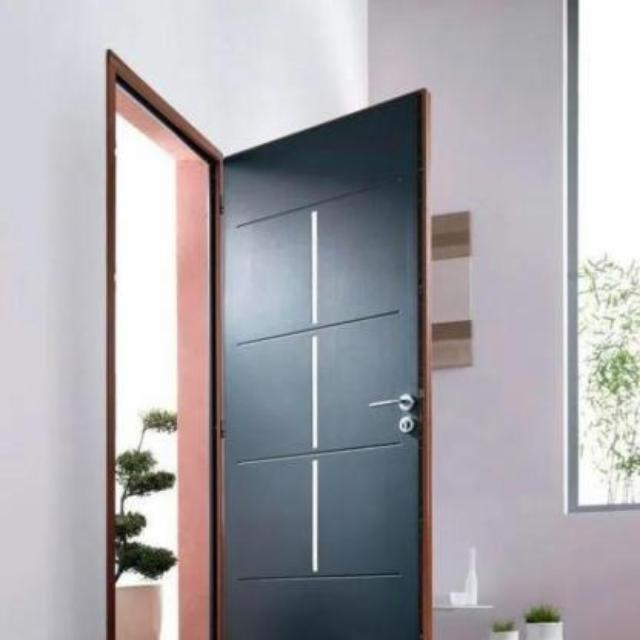door: (215, 88, 428, 639)
